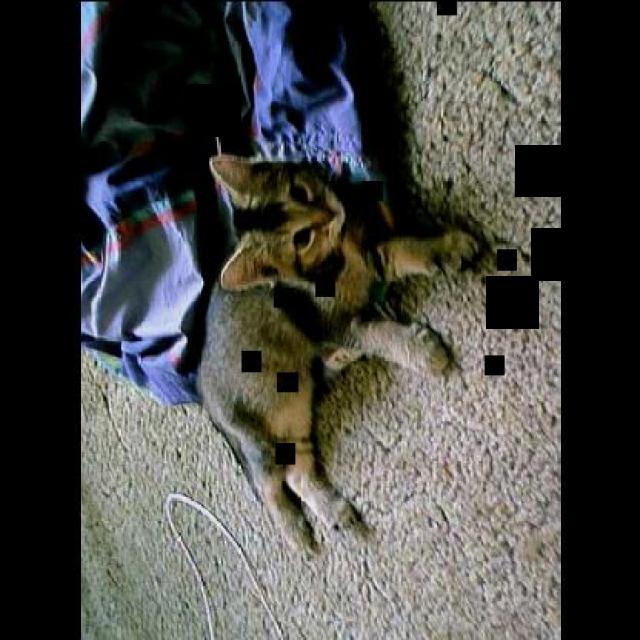unauthorized: (194, 151, 481, 557)
